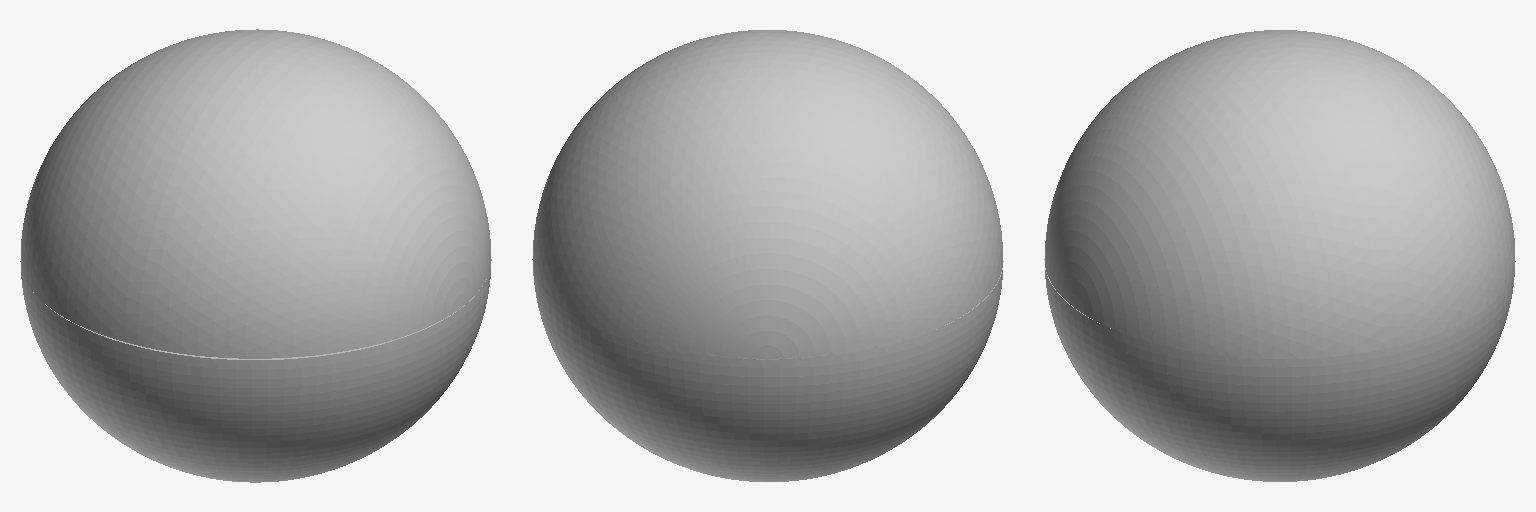
--- Facts derived from the render (not from the file) ---
The picture shows the robot from 3 angles, left to right: view 1: azimuth 30°, elevation 25°; view 2: azimuth 150°, elevation 25°; view 3: azimuth 270°, elevation 25°; orthographic projection.
Robot: GyroSphere — 26 links, 25 joints (20 continuous, 3 prismatic, 2 fixed); root link tetrahedron_skeleton; default pose: every joint at zero.
Links seen in each view (by area): view 1: upper_hemisphere, lower_hemisphere; view 2: upper_hemisphere, lower_hemisphere; view 3: upper_hemisphere, lower_hemisphere.
Boxes of the visible links, <box> form: upper_hemisphere: <box>20,29,490,358</box>; lower_hemisphere: <box>21,259,491,482</box>; upper_hemisphere: <box>532,30,1002,359</box>; lower_hemisphere: <box>533,261,1003,481</box>; upper_hemisphere: <box>1045,30,1515,358</box>; lower_hemisphere: <box>1044,259,1514,481</box>.
Bounding box of the posed robot: 5 × 5 × 4.77 m (x, y, z).
Meshes: 28 distinct files referenced, 28 mesh visuals loaded (28 Collada DAE).

URDF robot description (GyroSphere):
<?xml version="1.0"?>
<!-- created with Phobos 1.0.1 "Capricious Choutengan" -->
  <robot name="GyroSphere">

    <link name="Untitled.005">
      <inertial>
        <origin xyz="0.00109 0.00081 -0.00068" rpy="0 0 0"/>
        <mass value="0.01"/>
        <inertia ixx="0.00039" ixy="0" ixz="0" iyy="0.00039" iyz="0" izz="0.00039"/>
      </inertial>
      <visual name="node32">
        <origin xyz="-0.00111 -0.00082 0.00069" rpy="0.39357 0.46121 0.64005"/>
        <geometry>
          <mesh filename="../meshes/dae/Part__Feature019.dae" scale="10.1 10.1 10.1"/>
        </geometry>
        <material name="Part__Feature019"/>
      </visual>
      <collision name="node32.000">
        <origin xyz="-0.00111 -0.00082 0.00069" rpy="0.39357 0.46121 0.64005"/>
        <geometry>
          <mesh filename="../meshes/dae/Part__Feature019.001.dae" scale="1.01 1.01 1.01"/>
        </geometry>
      </collision>
    </link>

    <link name="Untitled.006">
      <inertial>
        <origin xyz="0 0 0" rpy="0 0 0"/>
        <mass value="0.01"/>
        <inertia ixx="0.00039" ixy="0" ixz="0" iyy="0.00039" iyz="0" izz="0.00039"/>
      </inertial>
      <visual name="node28">
        <origin xyz="0 0 0" rpy="-1.0292 -0.97789 1.10801"/>
        <geometry>
          <mesh filename="../meshes/dae/Part__Feature015.dae" scale="10.1 10.1 10.1"/>
        </geometry>
        <material name="Part__Feature015"/>
      </visual>
      <collision name="node28.000">
        <origin xyz="0 0 0" rpy="-1.0292 -0.97789 1.10801"/>
        <geometry>
          <mesh filename="../meshes/dae/Part__Feature015.001.dae" scale="1.01 1.01 1.01"/>
        </geometry>
      </collision>
    </link>

    <link name="Untitled.007">
      <inertial>
        <origin xyz="0 0 0" rpy="0 0 0"/>
        <mass value="0.01"/>
        <inertia ixx="0.00039" ixy="0" ixz="0" iyy="0.00039" iyz="0" izz="0.00039"/>
      </inertial>
      <visual name="node24">
        <origin xyz="0 0 0" rpy="0 0 0"/>
        <geometry>
          <mesh filename="../meshes/dae/Part__Feature011.dae" scale="10.1 10.1 10.1"/>
        </geometry>
        <material name="Part__Feature011"/>
      </visual>
      <collision name="node24.000">
        <origin xyz="0 0 0" rpy="0 0 0"/>
        <geometry>
          <mesh filename="../meshes/dae/Part__Feature011.001.dae" scale="1.01 1.01 1.01"/>
        </geometry>
      </collision>
    </link>

    <link name="Untitled.008">
      <inertial>
        <origin xyz="0.00057 -0.00065 -0.00126" rpy="0 0 0"/>
        <mass value="0.01"/>
        <inertia ixx="0.00039" ixy="0" ixz="0" iyy="0.00039" iyz="0" izz="0.00039"/>
      </inertial>
      <visual name="node20">
        <origin xyz="-0.00058 0.00065 0.00127" rpy="0.9385 0.96952 -0.84742"/>
        <geometry>
          <mesh filename="../meshes/dae/Part__Feature007.dae" scale="-10.1 -10.1 -10.1"/>
        </geometry>
        <material name="Part__Feature007"/>
      </visual>
      <collision name="node20.000">
        <origin xyz="-0.00058 0.00065 0.00127" rpy="0.95648 0.98392 -1.88254"/>
        <geometry>
          <mesh filename="../meshes/dae/Part__Feature007.001.dae" scale="1.01 1.01 1.01"/>
        </geometry>
      </collision>
    </link>

    <link name="Untitled.009">
      <inertial>
        <origin xyz="0.00128 0.00021 0.0008" rpy="0 0 0"/>
        <mass value="0.01"/>
        <inertia ixx="0.00039" ixy="0" ixz="0" iyy="0.00039" iyz="0" izz="0.00039"/>
      </inertial>
      <visual name="node16">
        <origin xyz="-0.00129 -0.00022 -0.00081" rpy="-0.37071 -0.55373 0.16606"/>
        <geometry>
          <mesh filename="../meshes/dae/Part__Feature003.dae" scale="10.1 10.1 10.1"/>
        </geometry>
        <material name="Part__Feature003"/>
      </visual>
      <collision name="node16.000">
        <origin xyz="-0.00129 -0.00022 -0.00081" rpy="-0.37071 -0.55373 0.16606"/>
        <geometry>
          <mesh filename="../meshes/dae/Part__Feature003.001.dae" scale="1.01 1.01 1.01"/>
        </geometry>
      </collision>
    </link>

    <link name="Untitled.010">
      <inertial>
        <origin xyz="0 0 0" rpy="0 0 0"/>
        <mass value="0.01"/>
        <inertia ixx="0.00039" ixy="0" ixz="0" iyy="0.00039" iyz="0" izz="0.00039"/>
      </inertial>
      <visual name="node52">
        <origin xyz="0 0 0" rpy="-0.50731 -0.05022 -0.25175"/>
        <geometry>
          <mesh filename="../meshes/dae/Part__Feature042.dae" scale="10.1 10.1 10.1"/>
        </geometry>
        <material name="Part__Feature042"/>
      </visual>
      <collision name="node52.000">
        <origin xyz="0 0 0" rpy="-0.50731 -0.05022 -0.25175"/>
        <geometry>
          <mesh filename="../meshes/dae/Part__Feature042.001.dae" scale="1.01 1.01 1.01"/>
        </geometry>
      </collision>
    </link>

    <link name="Untitled.011">
      <inertial>
        <origin xyz="0 0 0" rpy="0 0 0"/>
        <mass value="0.01"/>
        <inertia ixx="0.00039" ixy="0" ixz="0" iyy="0.00039" iyz="0" izz="0.00039"/>
      </inertial>
      <visual name="node48">
        <origin xyz="0 0 0" rpy="-1.14055 1.16913 -0.7232"/>
        <geometry>
          <mesh filename="../meshes/dae/Part__Feature038.dae" scale="10.1 10.1 10.1"/>
        </geometry>
        <material name="Part__Feature038"/>
      </visual>
      <collision name="node48.000">
        <origin xyz="0 0 0" rpy="-1.14055 1.16913 -0.7232"/>
        <geometry>
          <mesh filename="../meshes/dae/Part__Feature038.001.dae" scale="1.01 1.01 1.01"/>
        </geometry>
      </collision>
    </link>

    <link name="Untitled.012">
      <inertial>
        <origin xyz="0 0 0" rpy="0 0 0"/>
        <mass value="0.01"/>
        <inertia ixx="0.00039" ixy="0" ixz="0" iyy="0.00039" iyz="0" izz="0.00039"/>
      </inertial>
      <visual name="node44">
        <origin xyz="0 0 0" rpy="-0.28488 -0.60308 -0.30841"/>
        <geometry>
          <mesh filename="../meshes/dae/Part__Feature034.dae" scale="10.1 10.1 10.1"/>
        </geometry>
        <material name="Part__Feature034"/>
      </visual>
      <collision name="node44.000">
        <origin xyz="0 0 0" rpy="-0.28488 -0.60308 -0.30841"/>
        <geometry>
          <mesh filename="../meshes/dae/Part__Feature034.001.dae" scale="1.01 1.01 1.01"/>
        </geometry>
      </collision>
    </link>

    <link name="Untitled.013">
      <inertial>
        <origin xyz="0 0 0" rpy="0 0 0"/>
        <mass value="0.01"/>
        <inertia ixx="0.00039" ixy="0" ixz="0" iyy="0.00039" iyz="0" izz="0.00039"/>
      </inertial>
      <visual name="node40">
        <origin xyz="0 0 0" rpy="-0.63576 0.60564 -0.31313"/>
        <geometry>
          <mesh filename="../meshes/dae/Part__Feature030.dae" scale="10.1 10.1 10.1"/>
        </geometry>
        <material name="Part__Feature030"/>
      </visual>
      <collision name="node40.000">
        <origin xyz="0 0 0" rpy="-0.63576 0.60564 -0.31313"/>
        <geometry>
          <mesh filename="../meshes/dae/Part__Feature030.001.dae" scale="1.01 1.01 1.01"/>
        </geometry>
      </collision>
    </link>

    <link name="Untitled.014">
      <inertial>
        <origin xyz="0 0 0" rpy="0 0 0"/>
        <mass value="0.01"/>
        <inertia ixx="0.00039" ixy="0" ixz="0" iyy="0.00039" iyz="0" izz="0.00039"/>
      </inertial>
      <visual name="node36">
        <origin xyz="0 0 0" rpy="0.22642 1.97013 -0.80087"/>
        <geometry>
          <mesh filename="../meshes/dae/Part__Feature026.dae" scale="10.1 10.1 10.1"/>
        </geometry>
        <material name="Part__Feature026"/>
      </visual>
      <collision name="node36.000">
        <origin xyz="0 0 0" rpy="0.22642 1.97013 -0.80087"/>
        <geometry>
          <mesh filename="../meshes/dae/Part__Feature026.001.dae" scale="1.01 1.01 1.01"/>
        </geometry>
      </collision>
    </link>

    <link name="Untitled.015">
      <inertial>
        <origin xyz="0 0 0" rpy="0 0 0"/>
        <mass value="0.01"/>
        <inertia ixx="0.00039" ixy="0" ixz="0" iyy="0.00039" iyz="0" izz="0.00039"/>
      </inertial>
      <visual name="node72">
        <origin xyz="0 0 0" rpy="-0.0823 1.10989 -0.08524"/>
        <geometry>
          <mesh filename="../meshes/dae/Part__Feature065.dae" scale="10.1 10.09999 10.1"/>
        </geometry>
        <material name="Part__Feature065"/>
      </visual>
      <collision name="node72.000">
        <origin xyz="0 0 0" rpy="-0.0823 1.10989 -0.08524"/>
        <geometry>
          <mesh filename="../meshes/dae/Part__Feature065.001.dae" scale="1.01 1.01 1.01"/>
        </geometry>
      </collision>
    </link>

    <link name="Untitled.016">
      <inertial>
        <origin xyz="0 0 0" rpy="0 0 0"/>
        <mass value="0.01"/>
        <inertia ixx="0.00039" ixy="0" ixz="0" iyy="0.00039" iyz="0" izz="0.00039"/>
      </inertial>
      <visual name="node68">
        <origin xyz="0 0 0" rpy="0.6728 2.46284 0.14167"/>
        <geometry>
          <mesh filename="../meshes/dae/Part__Feature061.dae" scale="10.1 10.1 10.1"/>
        </geometry>
        <material name="Part__Feature061"/>
      </visual>
      <collision name="node68.000">
        <origin xyz="0 0 0" rpy="0.6728 2.46284 0.14167"/>
        <geometry>
          <mesh filename="../meshes/dae/Part__Feature061.001.dae" scale="1.01 1.01 1.01"/>
        </geometry>
      </collision>
    </link>

    <link name="Untitled.017">
      <inertial>
        <origin xyz="0 0 0" rpy="0 0 0"/>
        <mass value="0.01"/>
        <inertia ixx="0.00039" ixy="0" ixz="0" iyy="0.00039" iyz="0" izz="0.00039"/>
      </inertial>
      <visual name="node64">
        <origin xyz="0 0 0" rpy="0.34089 -2.55954 0.10123"/>
        <geometry>
          <mesh filename="../meshes/dae/Part__Feature057.dae" scale="10.1 10.1 10.1"/>
        </geometry>
        <material name="Part__Feature057"/>
      </visual>
      <collision name="node64.000">
        <origin xyz="0 0 0" rpy="0.34089 -2.55954 0.10123"/>
        <geometry>
          <mesh filename="../meshes/dae/Part__Feature057.001.dae" scale="1.01 1.01 1.01"/>
        </geometry>
      </collision>
    </link>

    <link name="Untitled.018">
      <inertial>
        <origin xyz="0 0 0" rpy="0 0 0"/>
        <mass value="0.01"/>
        <inertia ixx="0.00039" ixy="0" ixz="0" iyy="0.00039" iyz="0" izz="0.00039"/>
      </inertial>
      <visual name="node60">
        <origin xyz="0 0 0" rpy="1.27479 -1.22626 1.03316"/>
        <geometry>
          <mesh filename="../meshes/dae/Part__Feature053.dae" scale="10.1 10.1 10.1"/>
        </geometry>
        <material name="Part__Feature053"/>
      </visual>
      <collision name="node60.000">
        <origin xyz="0 0 0" rpy="1.27479 -1.22626 1.03316"/>
        <geometry>
          <mesh filename="../meshes/dae/Part__Feature053.001.dae" scale="1.01 1.01 1.01"/>
        </geometry>
      </collision>
    </link>

    <link name="Untitled.019">
      <inertial>
        <origin xyz="0 0 0" rpy="0 0 0"/>
        <mass value="0.01"/>
        <inertia ixx="0.00039" ixy="0" ixz="0" iyy="0.00039" iyz="0" izz="0.00039"/>
      </inertial>
      <visual name="node56">
        <origin xyz="0 0 0" rpy="0.48855 3.07688 -0.00227"/>
        <geometry>
          <mesh filename="../meshes/dae/Part__Feature049.dae" scale="10.1 10.1 10.1"/>
        </geometry>
        <material name="Part__Feature049"/>
      </visual>
      <collision name="node56.000">
        <origin xyz="0 0 0" rpy="0.48855 3.07688 -0.00227"/>
        <geometry>
          <mesh filename="../meshes/dae/Part__Feature049.001.dae" scale="1.01 1.01 1.01"/>
        </geometry>
      </collision>
    </link>

    <link name="caster_wheel">
      <inertial>
        <origin xyz="-6e-05 2e-05 -0.09995" rpy="0 0 0"/>
        <mass value="0.01"/>
        <inertia ixx="0.00098" ixy="0" ixz="0" iyy="0.00098" iyz="0" izz="0.00098"/>
      </inertial>
      <visual name="node15">
        <origin xyz="-3e-05 1e-05 -0.04998" rpy="1.5708 0 0"/>
        <geometry>
          <sphere radius="0.06998"/>
        </geometry>
        <material name="Part__Feature071"/>
      </visual>
      <collision name="node15">
        <origin xyz="0 0 -0.05" rpy="1.5708 0 0"/>
        <geometry>
          <sphere radius="0.06999"/>
        </geometry>
      </collision>
    </link>

    <link name="lower_hemisphere">
      <inertial>
        <origin xyz="0 0 0.245" rpy="0 0 0"/>
        <mass value="0.2"/>
        <inertia ixx="0.16328" ixy="0.00117" ixz="0" iyy="0.16328" iyz="0" izz="0.19766"/>
      </inertial>
      <visual name="node2">
        <origin xyz="0 0 0.37528" rpy="-1.56372 0.03166 -0.00247"/>
        <geometry>
          <mesh filename="../meshes/dae/Part__Feature074.003.dae" scale="10.0043 9.32563 10.00111"/>
        </geometry>
        <material name="Part__Feature074.002"/>
      </visual>
      <collision name="node2.000">
        <origin xyz="0 0 0.37528" rpy="-1.56372 0.03166 -0.00247"/>
        <geometry>
          <mesh filename="../meshes/dae/Part__Feature074.001.dae" scale="1.00043 0.93256 1.00011"/>
        </geometry>
      </collision>
    </link>

    <link name="omni_wheel.1">
      <inertial>
        <origin xyz="-0.01024 0.02911 -0.01562" rpy="0 0 0"/>
        <mass value="0.05"/>
        <inertia ixx="0.00093" ixy="-8e-05" ixz="-0.00029" iyy="0.00083" iyz="0.00017" izz="0.00137"/>
      </inertial>
      <visual name="node4">
        <origin xyz="0 0 0" rpy="1.5708 -0.5236 0"/>
        <geometry>
          <mesh filename="../meshes/dae/Part__Feature023.dae" scale="10.0 10.0 10.0"/>
        </geometry>
        <material name="Part__Feature023"/>
      </visual>
      <visual name="node8">
        <origin xyz="-0.01032 0.02908 -0.02642" rpy="1.5708 -0.5236 0"/>
        <geometry>
          <mesh filename="../meshes/dae/Part__Feature001.dae" scale="10.0 10.0 10.0"/>
        </geometry>
        <material name="Part__Feature001"/>
      </visual>
      <visual name="node9">
        <origin xyz="-0.01015 0.02914 -0.00483" rpy="1.5708 -0.5236 0"/>
        <geometry>
          <mesh filename="../meshes/dae/Part__Feature002.dae" scale="10.0 10.0 10.0"/>
        </geometry>
        <material name="Part__Feature002"/>
      </visual>
      <collision name="node4">
        <origin xyz="0 0 -0.00062" rpy="3.14159 0 0"/>
        <geometry>
          <cylinder radius="0.09749" length="0.01376"/>
        </geometry>
      </collision>
      <collision name="node8.000">
        <origin xyz="-0.01015 0.02914 -0.00483" rpy="1.5708 -0.5236 0"/>
        <geometry>
          <mesh filename="../meshes/dae/Part__Feature001.001.dae" scale="1.0 1.0 1.0"/>
        </geometry>
      </collision>
      <collision name="node9.000">
        <origin xyz="-0.01015 0.02914 -0.00483" rpy="1.5708 -0.5236 0"/>
        <geometry>
          <mesh filename="../meshes/dae/Part__Feature002.001.dae" scale="1.0 1.0 1.0"/>
        </geometry>
      </collision>
    </link>

    <link name="omni_wheel.2">
      <inertial>
        <origin xyz="0.01992 0.02357 -0.01563" rpy="0 0 0"/>
        <mass value="0.05"/>
        <inertia ixx="0.00096" ixy="0.0003" ixz="0.00013" iyy="0.00129" iyz="0.00021" izz="0.00087"/>
      </inertial>
      <visual name="node12">
        <origin xyz="0.01985 0.02363 -0.02642" rpy="2.03444 0.25268 -0.46365"/>
        <geometry>
          <mesh filename="../meshes/dae/Part__Feature047.dae" scale="10.0 10.0 10.0"/>
        </geometry>
        <material name="Part__Feature047"/>
      </visual>
      <visual name="node13">
        <origin xyz="0.01998 0.02352 -0.00483" rpy="2.03444 0.25268 -0.46365"/>
        <geometry>
          <mesh filename="../meshes/dae/Part__Feature048.dae" scale="10.0 10.0 10.0"/>
        </geometry>
        <material name="Part__Feature048"/>
      </visual>
      <visual name="node6">
        <origin xyz="0 0 0" rpy="2.03444 0.25268 -0.46365"/>
        <geometry>
          <mesh filename="../meshes/dae/Part__Feature069.dae" scale="10.0 10.0 10.0"/>
        </geometry>
        <material name="Part__Feature069"/>
      </visual>
      <collision name="node12.000">
        <origin xyz="0.01998 0.02352 -0.00483" rpy="2.03444 0.25268 -0.46365"/>
        <geometry>
          <mesh filename="../meshes/dae/Part__Feature047.001.dae" scale="1.0 1.0 1.0"/>
        </geometry>
      </collision>
      <collision name="node13.000">
        <origin xyz="0.01985 0.02363 -0.02642" rpy="2.03444 0.25268 -0.46365"/>
        <geometry>
          <mesh filename="../meshes/dae/Part__Feature048.001.dae" scale="1.0 1.0 1.0"/>
        </geometry>
      </collision>
      <collision name="node6">
        <origin xyz="0 0 -0.00062" rpy="3.14159 0 0"/>
        <geometry>
          <cylinder radius="0.09565" length="0.01605"/>
        </geometry>
      </collision>
    </link>

    <link name="omni_wheel.3">
      <inertial>
        <origin xyz="-0.03043 0.00515 -0.01562" rpy="0 0 0"/>
        <mass value="0.05"/>
        <inertia ixx="0.00078" ixy="3e-05" ixz="-2e-05" iyy="0.00129" iyz="-0.00037" izz="0.00105"/>
      </inertial>
      <visual name="node10">
        <origin xyz="-0.03044 0.00506 -0.02642" rpy="1.10715 0.25268 0.46365"/>
        <geometry>
          <mesh filename="../meshes/dae/Part__Feature024.dae" scale="10.0 10.0 10.0"/>
        </geometry>
        <material name="Part__Feature024"/>
      </visual>
      <visual name="node11">
        <origin xyz="-0.03041 0.00524 -0.00483" rpy="1.10715 0.25268 0.46365"/>
        <geometry>
          <mesh filename="../meshes/dae/Part__Feature025.dae" scale="10.0 10.0 10.0"/>
        </geometry>
        <material name="Part__Feature025"/>
      </visual>
      <visual name="node5">
        <origin xyz="0 0 0" rpy="1.10715 0.25268 0.46365"/>
        <geometry>
          <mesh filename="../meshes/dae/Part__Feature046.dae" scale="10.0 10.0 10.0"/>
        </geometry>
        <material name="Part__Feature046"/>
      </visual>
      <collision name="node10.000">
        <origin xyz="-0.03041 0.00524 -0.00483" rpy="1.10715 0.25268 0.46365"/>
        <geometry>
          <mesh filename="../meshes/dae/Part__Feature024.001.dae" scale="1.0 1.0 1.0"/>
        </geometry>
      </collision>
      <collision name="node11.000">
        <origin xyz="-0.03044 0.00506 -0.02642" rpy="1.10715 0.25268 0.46365"/>
        <geometry>
          <mesh filename="../meshes/dae/Part__Feature025.001.dae" scale="1.0 1.0 1.0"/>
        </geometry>
      </collision>
      <collision name="node5">
        <origin xyz="0 0 -0.00063" rpy="0 0 0"/>
        <geometry>
          <cylinder radius="0.09565" length="0.0081"/>
        </geometry>
      </collision>
    </link>

    <link name="prismatic_1">
      <inertial>
        <origin xyz="0 0 0" rpy="0 0 0"/>
        <mass value="0.001"/>
        <inertia ixx="0.001" ixy="0" ixz="0" iyy="0.001" iyz="0" izz="0.001"/>
      </inertial>
      <visual name="Cylinder.001">
        <origin xyz="0 0 0" rpy="0 0 0"/>
        <geometry>
          <cylinder radius="0.01607" length="0.12703"/>
        </geometry>
      </visual>
    </link>

    <link name="prismatic_2">
      <inertial>
        <origin xyz="0 0 0" rpy="0 0 0"/>
        <mass value="0.001"/>
        <inertia ixx="0.001" ixy="0" ixz="0" iyy="0.001" iyz="0" izz="0.001"/>
      </inertial>
      <visual name="Cylinder.002">
        <origin xyz="0 0 0" rpy="0 0 0"/>
        <geometry>
          <cylinder radius="0.01607" length="0.12703"/>
        </geometry>
      </visual>
    </link>

    <link name="prismatic_3">
      <inertial>
        <origin xyz="0 0 0" rpy="0 0 0"/>
        <mass value="0.001"/>
        <inertia ixx="0.001" ixy="0" ixz="0" iyy="0.001" iyz="0" izz="0.001"/>
      </inertial>
      <visual name="Cylinder">
        <origin xyz="0 0 0" rpy="0 0 0"/>
        <geometry>
          <cylinder radius="0.01607" length="0.12703"/>
        </geometry>
      </visual>
    </link>

    <link name="tetrahedron_skeleton">
      <inertial>
        <origin xyz="0 0 0" rpy="0 0 0"/>
        <mass value="0.75"/>
        <inertia ixx="3.50625" ixy="0" ixz="0" iyy="3.50625" iyz="0" izz="3.76875"/>
      </inertial>
      <visual name="node0">
        <origin xyz="0.00113 -0.0016 -0.76747" rpy="1.5708 0 0"/>
        <geometry>
          <mesh filename="../meshes/dae/Part__Feature.dae" scale="10.0 9.9 10.0"/>
        </geometry>
        <material name="Part__Feature"/>
      </visual>
      <collision name="node0.000">
        <origin xyz="0.00113 -0.0016 -0.76747" rpy="1.5708 0 0"/>
        <geometry>
          <mesh filename="../meshes/dae/Part__Feature.001.dae" scale="1.0 0.99 1.0"/>
        </geometry>
      </collision>
    </link>

    <link name="upper_hemisphere">
      <inertial>
        <origin xyz="0 0 -0.345" rpy="0 0 0"/>
        <mass value="0.2"/>
        <inertia ixx="0.22344" ixy="-0.00078" ixz="0" iyy="0.22344" iyz="0" izz="0.19258"/>
      </inertial>
      <visual name="node3">
        <origin xyz="0 0 -0.48528" rpy="1.5708 -0.02848 0"/>
        <geometry>
          <mesh filename="../meshes/dae/Part__Feature075.003.dae" scale="10.00567 9.72377 10.00161"/>
        </geometry>
        <material name="Part__Feature075.002"/>
      </visual>
      <collision name="node3.000">
        <origin xyz="0 0 -0.48528" rpy="1.5708 -0.02673 0"/>
        <geometry>
          <mesh filename="../meshes/dae/Part__Feature075.001.dae" scale="1.00057 0.97238 1.00016"/>
        </geometry>
      </collision>
    </link>

    <link name="weight">
      <inertial>
        <origin xyz="0.08955 0.10581 0.15202" rpy="0 0 0"/>
        <mass value="10.0"/>
        <inertia ixx="18.50312" ixy="-0.18596" ixz="0.09062" iyy="18.39548" iyz="-0.66457" izz="15.0014"/>
      </inertial>
      <visual name="node1">
        <origin xyz="0.0909 0.10726 -0.00689" rpy="1.63969 -0.06699 0.00783"/>
        <geometry>
          <mesh filename="../meshes/dae/Part__Feature073.dae" scale="10.0 10.0 10.0"/>
        </geometry>
        <material name="Part__Feature073"/>
      </visual>
      <collision name="node1">
        <origin xyz="0.0909 0.0941 0.15793" rpy="0 0 0"/>
        <geometry>
          <cylinder radius="0.39698" length="0.98483"/>
        </geometry>
      </collision>
    </link>

    <joint name="Untitled.005" type="continuous">
      <origin xyz="0.33339 -0.23286 -0.01562" rpy="-1.64576 0 2.54879"/>
      <parent link="omni_wheel.1"/>
      <child link="Untitled.005"/>
      <axis xyz="0 0 1.0"/>
      <limit effort="100.0" velocity="100.0"/>
    </joint>

    <joint name="Untitled.006" type="continuous">
      <origin xyz="-0.11843 -0.38902 -0.01563" rpy="1.5708 0 1.2786"/>
      <parent link="omni_wheel.1"/>
      <child link="Untitled.006"/>
      <axis xyz="0 0 1.0"/>
      <limit effort="100.0" velocity="100.0"/>
    </joint>

    <joint name="Untitled.007" type="continuous">
      <origin xyz="-0.40656 -0.00757 -0.01562" rpy="1.5708 -0.5236 0"/>
      <parent link="omni_wheel.1"/>
      <child link="Untitled.007"/>
      <axis xyz="0 0 1.0"/>
      <limit effort="100.0" velocity="100.0"/>
    </joint>

    <joint name="Untitled.008" type="continuous">
      <origin xyz="-0.13698 0.38288 -0.01563" rpy="-1.58821 -0.18596 -1.23308"/>
      <parent link="omni_wheel.1"/>
      <child link="Untitled.008"/>
      <axis xyz="0 0 1.0"/>
      <limit effort="100.0" velocity="100.0"/>
    </joint>

    <joint name="Untitled.009" type="continuous">
      <origin xyz="0.32182 0.2486 -0.01562" rpy="-1.5664 0.46533 -2.48815"/>
      <parent link="omni_wheel.1"/>
      <child link="Untitled.009"/>
      <axis xyz="0 0 1.0"/>
      <limit effort="100.0" velocity="100.0"/>
    </joint>

    <joint name="Untitled.010" type="continuous">
      <origin xyz="0.36522 0.17884 -0.01562" rpy="-1.516 0.0012 -2.64024"/>
      <parent link="omni_wheel.3"/>
      <child link="Untitled.010"/>
      <axis xyz="0 0 1.0"/>
      <limit effort="100.0" velocity="100.0"/>
    </joint>

    <joint name="Untitled.011" type="continuous">
      <origin xyz="0.28294 -0.29207 -0.01562" rpy="-1.56379 0.00772 2.34408"/>
      <parent link="omni_wheel.3"/>
      <child link="Untitled.011"/>
      <axis xyz="0 0 1.0"/>
      <limit effort="100.0" velocity="100.0"/>
    </joint>

    <joint name="Untitled.012" type="continuous">
      <origin xyz="-0.19034 -0.35933 -0.01562" rpy="1.5708 0 1.08949"/>
      <parent link="omni_wheel.3"/>
      <child link="Untitled.012"/>
      <axis xyz="0 0 1.0"/>
      <limit effort="100.0" velocity="100.0"/>
    </joint>

    <joint name="Untitled.013" type="continuous">
      <origin xyz="-0.40131 0.06566 -0.01563" rpy="1.56481 -0.0085 -0.16294"/>
      <parent link="omni_wheel.3"/>
      <child link="Untitled.013"/>
      <axis xyz="0 0 1.0"/>
      <limit effort="100.0" velocity="100.0"/>
    </joint>

    <joint name="Untitled.014" type="continuous">
      <origin xyz="-0.06156 0.40197 -0.01563" rpy="-1.35384 -1.61409 1.51314"/>
      <parent link="omni_wheel.3"/>
      <child link="Untitled.014"/>
      <axis xyz="0 0 1.0"/>
      <limit effort="100.0" velocity="100.0"/>
    </joint>

    <joint name="Untitled.015" type="continuous">
      <origin xyz="-0.03191 -0.40541 -0.01562" rpy="-1.57116 -0.51092 1.49688"/>
      <parent link="omni_wheel.2"/>
      <child link="Untitled.015"/>
      <axis xyz="0 0 1.0"/>
      <limit effort="100.0" velocity="100.0"/>
    </joint>

    <joint name="Untitled.016" type="continuous">
      <origin xyz="-0.39541 -0.09494 -0.01563" rpy="-1.57128 0.18491 0.24177"/>
      <parent link="omni_wheel.2"/>
      <child link="Untitled.016"/>
      <axis xyz="0 0 1.0"/>
      <limit effort="100.0" velocity="100.0"/>
    </joint>

    <joint name="Untitled.017" type="continuous">
      <origin xyz="-0.21247 0.34671 -0.01562" rpy="-1.53178 0.17641 -1.06279"/>
      <parent link="omni_wheel.2"/>
      <child link="Untitled.017"/>
      <axis xyz="0 0 1.0"/>
      <limit effort="100.0" velocity="100.0"/>
    </joint>

    <joint name="Untitled.018" type="continuous">
      <origin xyz="0.26074 0.31204 -0.01562" rpy="1.57689 -1.26754 0.8782"/>
      <parent link="omni_wheel.2"/>
      <child link="Untitled.018"/>
      <axis xyz="0 0 1.0"/>
      <limit effort="100.0" velocity="100.0"/>
    </joint>

    <joint name="Untitled.019" type="continuous">
      <origin xyz="0.37736 -0.15156 -0.01562" rpy="1.57895 -0.25602 2.74476"/>
      <parent link="omni_wheel.2"/>
      <child link="Untitled.019"/>
      <axis xyz="0 0 1.0"/>
      <limit effort="100.0" velocity="100.0"/>
    </joint>

    <joint name="caster_wheel" type="fixed">
      <origin xyz="0 0 2.17524" rpy="0 0 0"/>
      <parent link="tetrahedron_skeleton"/>
      <child link="caster_wheel"/>
    </joint>

    <joint name="lower_hemisphere" type="continuous">
      <origin xyz="0 0 -0.04473" rpy="-3.14159 0 0"/>
      <parent link="tetrahedron_skeleton"/>
      <child link="lower_hemisphere"/>
      <axis xyz="0 0 1.0"/>
      <limit effort="100.0" velocity="6.28"/>
    </joint>

    <joint name="omni_wheel.1" type="continuous">
      <origin xyz="-0.09331 -0.0006 0.74077" rpy="0 -1.5708 0"/>
      <parent link="prismatic_1"/>
      <child link="omni_wheel.1"/>
      <axis xyz="0 0 1.0"/>
      <limit effort="100.0" velocity="6.28"/>
    </joint>

    <joint name="omni_wheel.2" type="continuous">
      <origin xyz="7e-05 -0.09274 0.73977" rpy="1.5708 0 0"/>
      <parent link="prismatic_2"/>
      <child link="omni_wheel.2"/>
      <axis xyz="0 0 1.0"/>
      <limit effort="100.0" velocity="6.28"/>
    </joint>

    <joint name="omni_wheel.3" type="continuous">
      <origin xyz="0.00067 0.09325 0.74066" rpy="-1.5708 0 0"/>
      <parent link="prismatic_3"/>
      <child link="omni_wheel.3"/>
      <axis xyz="0 0 1.0"/>
      <limit effort="100.0" velocity="6.28"/>
    </joint>

    <joint name="prismatic_1" type="prismatic">
      <origin xyz="1.13574 -0.00101 -0.4779" rpy="0 2.0944 0"/>
      <parent link="tetrahedron_skeleton"/>
      <child link="prismatic_1"/>
      <axis xyz="0 0 1.0"/>
      <limit lower="-0.5" upper="0.5" effort="100.0" velocity="6.28"/>
    </joint>

    <joint name="prismatic_2" type="prismatic">
      <origin xyz="-0.56682 0.98197 -0.4779" rpy="-2.0944 0 0.5236"/>
      <parent link="tetrahedron_skeleton"/>
      <child link="prismatic_2"/>
      <axis xyz="0 0 1.0"/>
      <limit lower="-0.5" upper="0.5" effort="100.0" velocity="6.28"/>
    </joint>

    <joint name="prismatic_3" type="prismatic">
      <origin xyz="-0.56682 -0.98398 -0.4779" rpy="2.0944 0 -0.5236"/>
      <parent link="tetrahedron_skeleton"/>
      <child link="prismatic_3"/>
      <axis xyz="0 0 1.0"/>
      <limit lower="-0.5" upper="0.5" effort="100.0" velocity="6.28"/>
    </joint>

    <joint name="upper_hemisphere" type="continuous">
      <origin xyz="0 0 0.05091" rpy="0 0 0"/>
      <parent link="tetrahedron_skeleton"/>
      <child link="upper_hemisphere"/>
      <axis xyz="0 0 1.0"/>
      <limit effort="100.0" velocity="100.0"/>
    </joint>

    <joint name="weight" type="fixed">
      <origin xyz="-0.09396 -0.10354 -1.40806" rpy="0 0 0"/>
      <parent link="tetrahedron_skeleton"/>
      <child link="weight"/>
    </joint>

    <material name="Part__Feature">
      <color rgba="0.8 0.8 0.8 1.0"/>
    </material>

    <material name="Part__Feature001">
      <color rgba="0.8 0.8 0.8 1.0"/>
    </material>

    <material name="Part__Feature002">
      <color rgba="0.8 0.8 0.8 1.0"/>
    </material>

    <material name="Part__Feature003">
      <color rgba="0.8 0.8 0.8 1.0"/>
    </material>

    <material name="Part__Feature007">
      <color rgba="0.8 0.8 0.8 1.0"/>
    </material>

    <material name="Part__Feature011">
      <color rgba="0.8 0.8 0.8 1.0"/>
    </material>

    <material name="Part__Feature015">
      <color rgba="0.8 0.8 0.8 1.0"/>
    </material>

    <material name="Part__Feature019">
      <color rgba="0.8 0.8 0.8 1.0"/>
    </material>

    <material name="Part__Feature023">
      <color rgba="0.8 0.8 0.8 1.0"/>
    </material>

    <material name="Part__Feature024">
      <color rgba="0.8 0.8 0.8 1.0"/>
    </material>

    <material name="Part__Feature025">
      <color rgba="0.8 0.8 0.8 1.0"/>
    </material>

    <material name="Part__Feature026">
      <color rgba="0.8 0.8 0.8 1.0"/>
    </material>

    <material name="Part__Feature030">
      <color rgba="0.8 0.8 0.8 1.0"/>
    </material>

    <material name="Part__Feature034">
      <color rgba="0.8 0.8 0.8 1.0"/>
    </material>

    <material name="Part__Feature038">
      <color rgba="0.8 0.8 0.8 1.0"/>
    </material>

    <material name="Part__Feature042">
      <color rgba="0.8 0.8 0.8 1.0"/>
    </material>

    <material name="Part__Feature046">
      <color rgba="0.8 0.8 0.8 1.0"/>
    </material>

    <material name="Part__Feature047">
      <color rgba="0.8 0.8 0.8 1.0"/>
    </material>

    <material name="Part__Feature048">
      <color rgba="0.8 0.8 0.8 1.0"/>
    </material>

    <material name="Part__Feature049">
      <color rgba="0.8 0.8 0.8 1.0"/>
    </material>

    <material name="Part__Feature053">
      <color rgba="0.8 0.8 0.8 1.0"/>
    </material>

    <material name="Part__Feature057">
      <color rgba="0.8 0.8 0.8 1.0"/>
    </material>

    <material name="Part__Feature061">
      <color rgba="0.8 0.8 0.8 1.0"/>
    </material>

    <material name="Part__Feature065">
      <color rgba="0.8 0.8 0.8 1.0"/>
    </material>

    <material name="Part__Feature069">
      <color rgba="0.8 0.8 0.8 1.0"/>
    </material>

    <material name="Part__Feature071">
      <color rgba="0.8 0.8 0.8 1.0"/>
    </material>

    <material name="Part__Feature073">
      <color rgba="0.8 0.8 0.8 1.0"/>
    </material>

    <material name="Part__Feature074.002">
      <color rgba="0.8 0.8 0.8 1.0"/>
    </material>

    <material name="Part__Feature075.002">
      <color rgba="0.8 0.8 0.8 1.0"/>
    </material>

  </robot>
